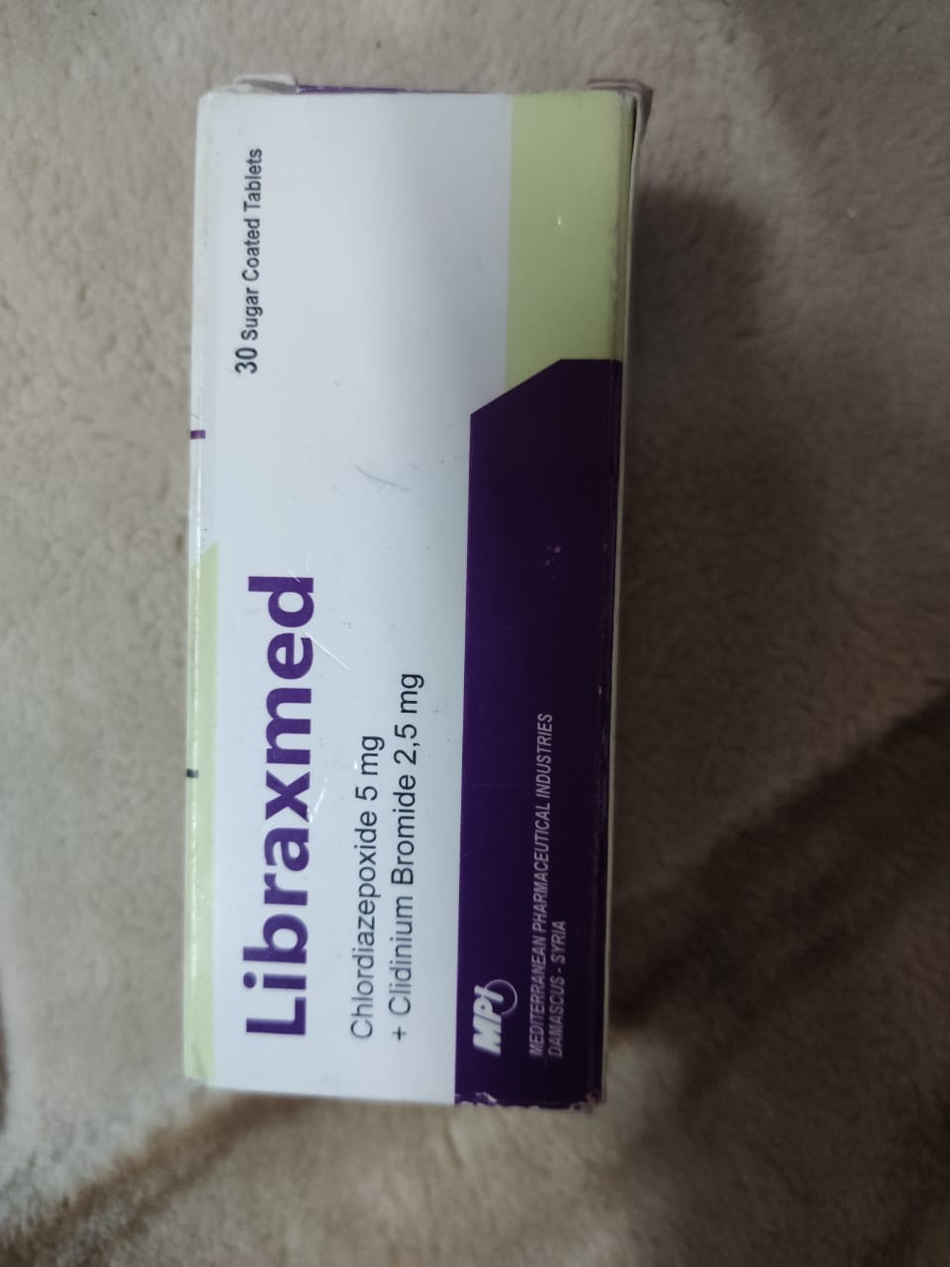Medicine: (172, 76, 650, 1128)
